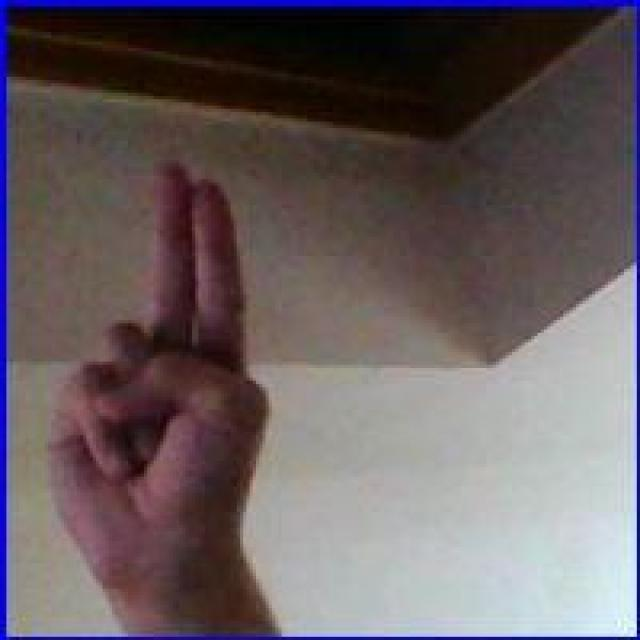U: (42, 155, 275, 578)
